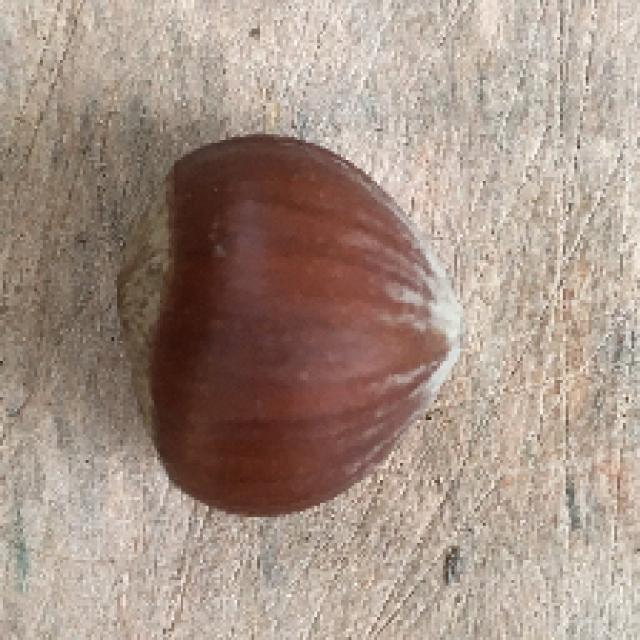qualityHazelnut: (103, 132, 465, 517)
